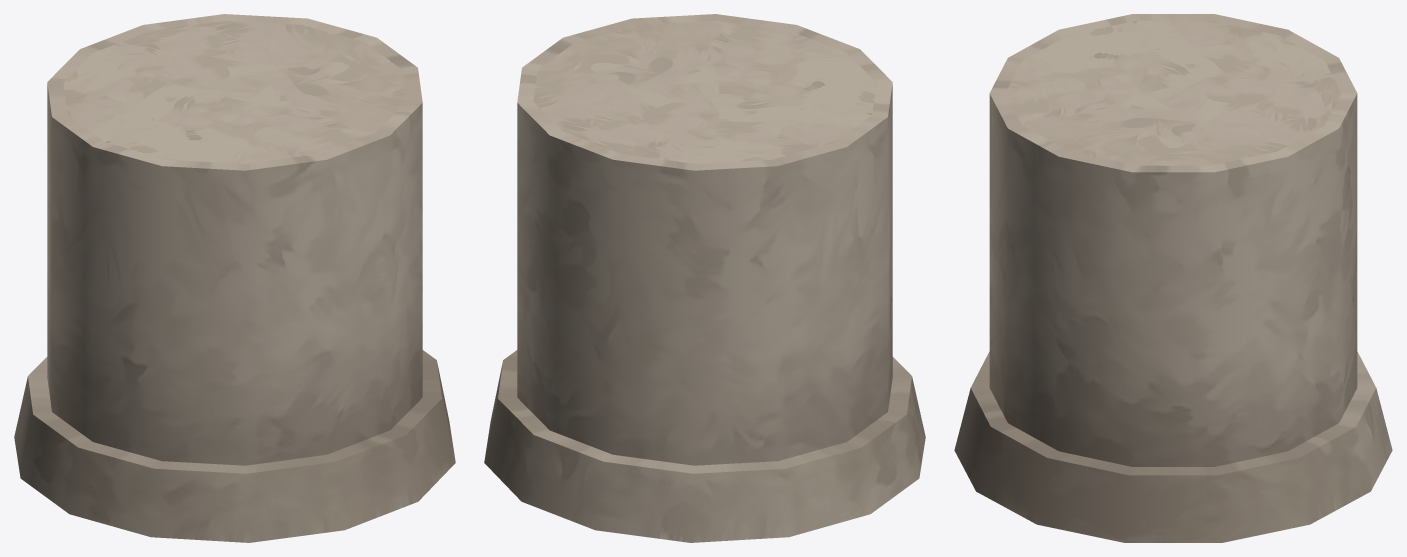
The model's file is kolumna_czesc_podstawa.obj.
3 renders of one model, left to right at view 1: azimuth 30°, elevation 25°; view 2: azimuth 150°, elevation 25°; view 3: azimuth 270°, elevation 25°, orthographic.
Parts seen in each view (by area): view 1: Cylinder.003; view 2: Cylinder.003; view 3: Cylinder.003.
Part boxes in pixels (left/top/right/bottom): Cylinder.003: left=14, top=14, right=455, bottom=542; Cylinder.003: left=484, top=14, right=925, bottom=542; Cylinder.003: left=954, top=14, right=1392, bottom=542.
Bounding box in the file's own units: 6.2 × 5.58 × 6.2.
1 material, 1 textured.
